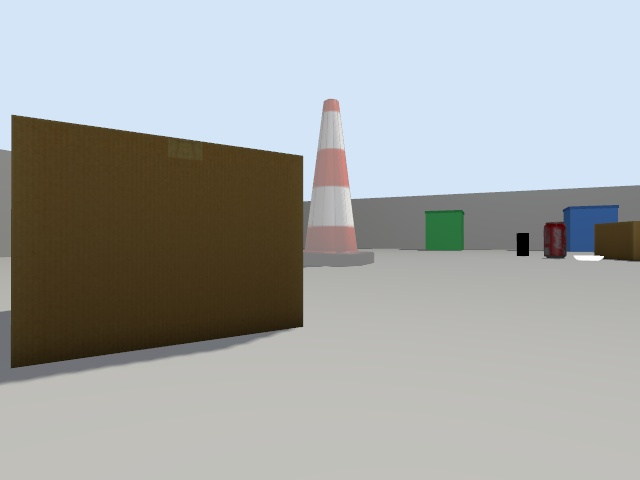bol: (574, 255, 603, 261)
bouteille_verre: (516, 233, 528, 255)
canette: (543, 222, 566, 258)
carton: (11, 116, 303, 367), (593, 221, 639, 260)
cone_chantier: (303, 99, 373, 265)
